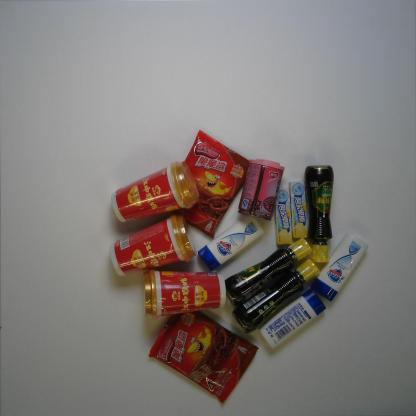Candy: (273, 186, 295, 247), (288, 179, 310, 238)
Canned Food: (236, 158, 285, 222)
Dessert: (147, 302, 259, 404), (166, 130, 252, 240)
Instant Drink: (108, 159, 200, 223), (108, 212, 198, 277), (139, 265, 229, 322)
Personal Hygiene: (307, 230, 369, 304), (197, 210, 265, 273), (257, 288, 326, 350)
Seasoner: (231, 258, 322, 336), (221, 236, 314, 308), (302, 164, 336, 265)
